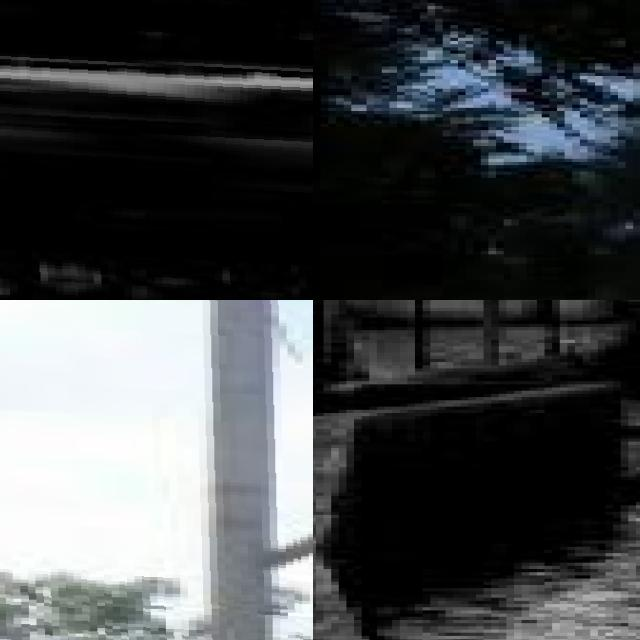street light: (0, 300, 313, 640), (0, 0, 313, 300), (361, 300, 426, 373), (498, 300, 563, 357), (537, 300, 582, 360)
